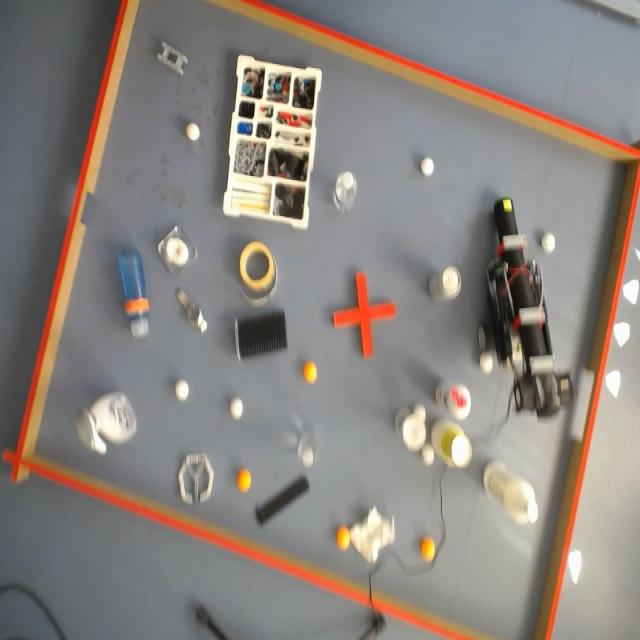orange: (302, 360, 316, 384), (422, 536, 435, 561), (337, 525, 349, 551), (238, 468, 250, 492)
robot: (479, 197, 574, 417)
robot-front: (500, 197, 514, 214)
white: (418, 154, 436, 179), (174, 378, 190, 403), (229, 396, 244, 421), (542, 232, 557, 253), (481, 349, 493, 374), (185, 121, 200, 141), (422, 443, 434, 465), (301, 446, 313, 467), (413, 405, 426, 422)
